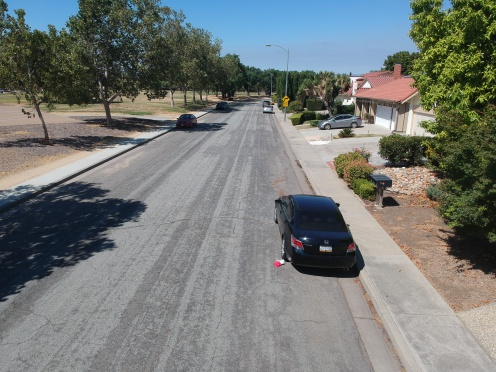plastic bag: (269, 257, 287, 268)
